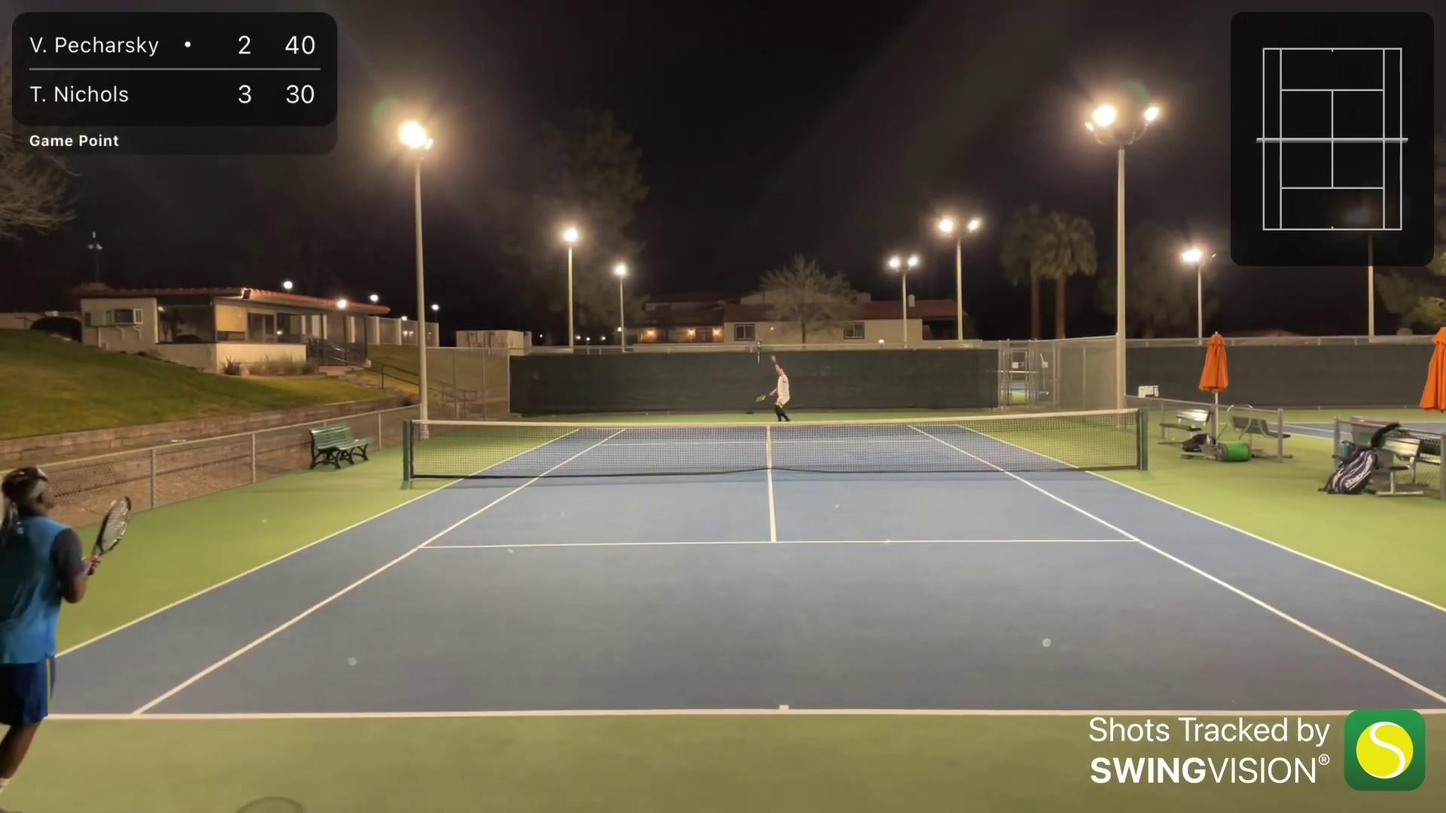ball: (768, 325, 775, 333)
